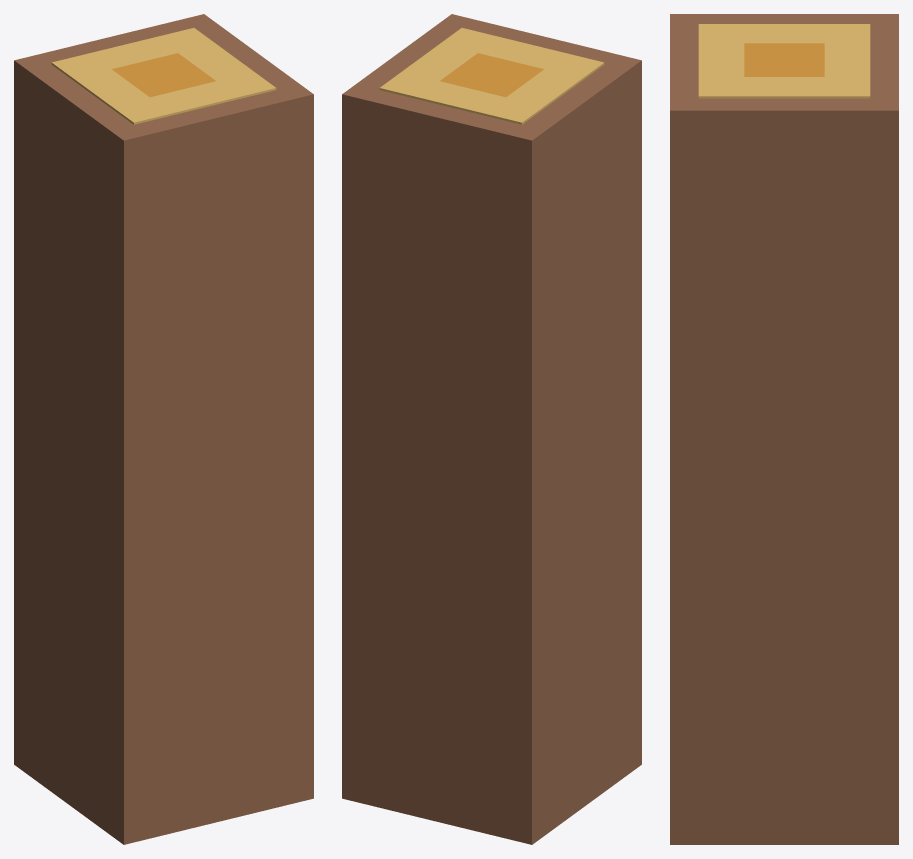
Rendered from Log.fbx.
3 views of the same model, side by side, from view 1: azimuth 30°, elevation 25°; view 2: azimuth 150°, elevation 25°; view 3: azimuth 270°, elevation 25° (orthographic). The views are drawn at different scales.
Parts seen in each view (by area): view 1: Log; view 2: Log; view 3: Log.
Part boxes in pixels (<box>): Log: <box>14,14,313,844</box>; Log: <box>342,14,641,844</box>; Log: <box>670,14,898,844</box>.
Size of the model in its own units: 93.6 by 333 by 93.6.
